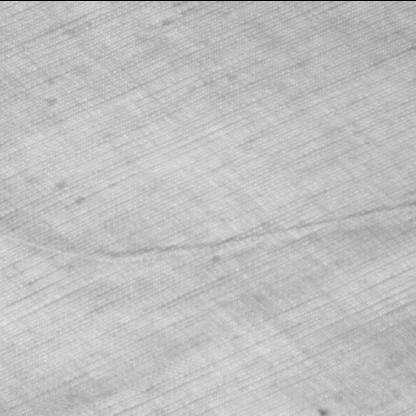objects: (0, 197, 415, 265)
